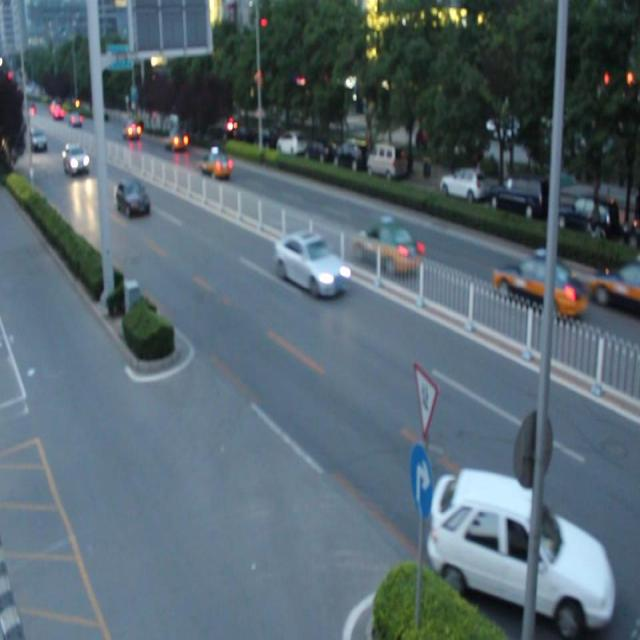car: (434, 468, 607, 622), (494, 256, 584, 321), (274, 236, 345, 297), (354, 222, 421, 272), (592, 264, 640, 314), (114, 181, 149, 216), (200, 150, 232, 178), (163, 127, 189, 154)
